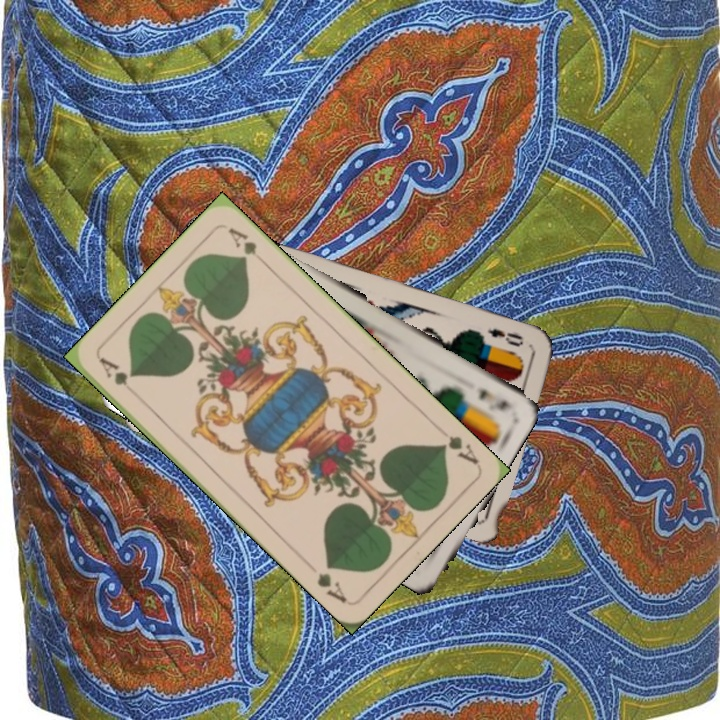EK: (472, 384, 513, 413)
EO: (484, 324, 526, 350)
GA: (435, 431, 482, 467), (95, 353, 131, 389)
